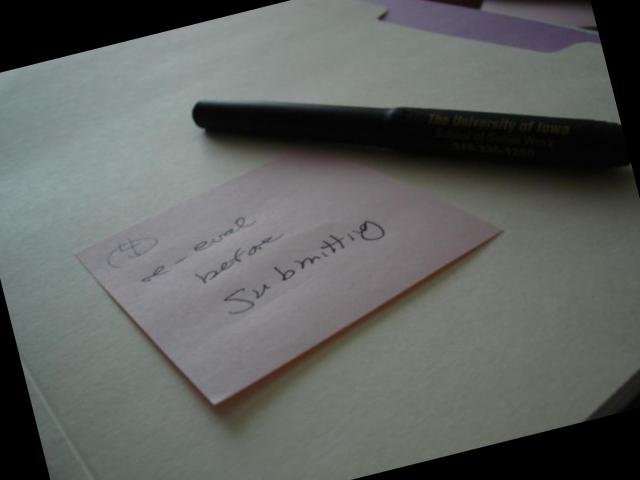PEN: (179, 89, 632, 191)
